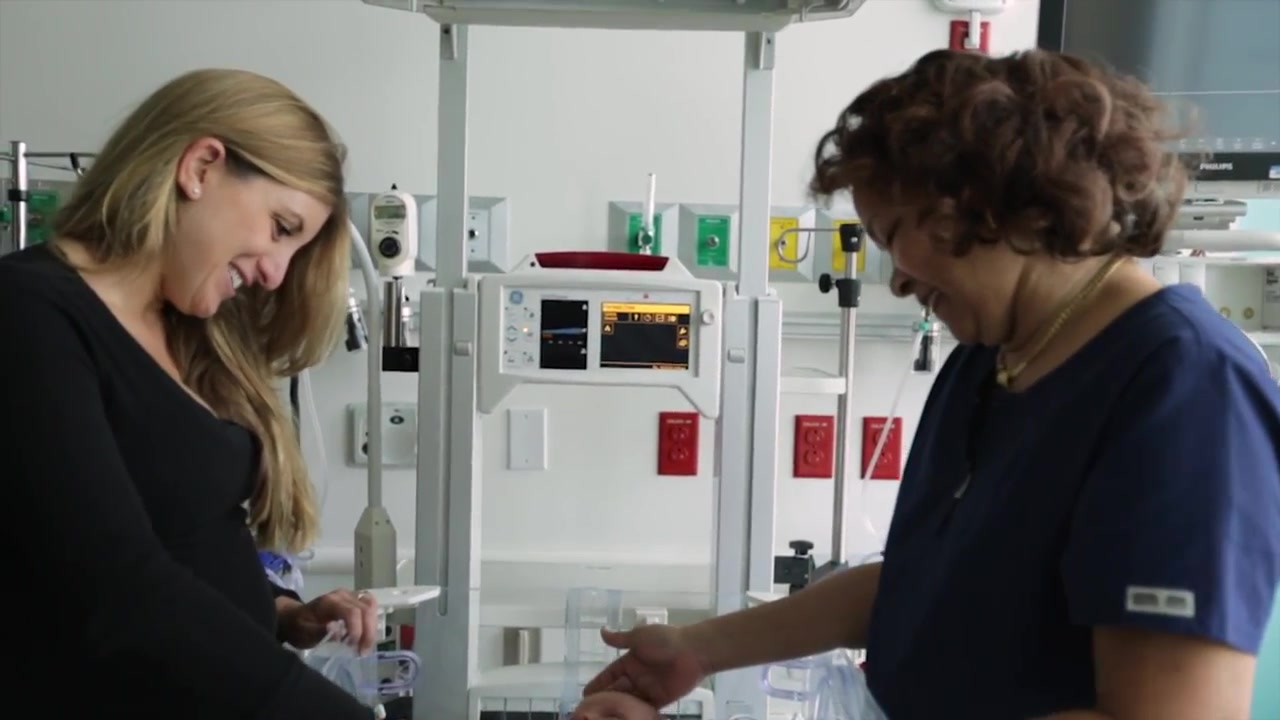iv_pole: (775, 224, 875, 594), (1, 142, 96, 251)
patient: (583, 45, 1280, 720)
visitor: (1, 68, 376, 720)
